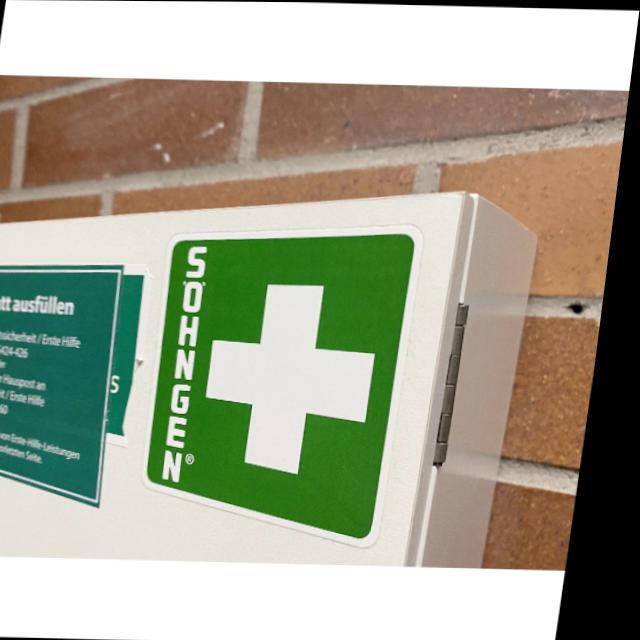first aid kit: (139, 219, 427, 547)
